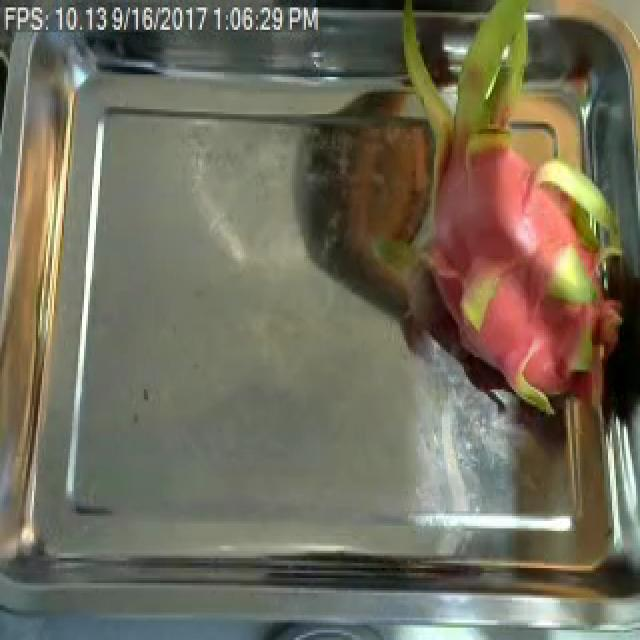fruit: (380, 8, 640, 429)
